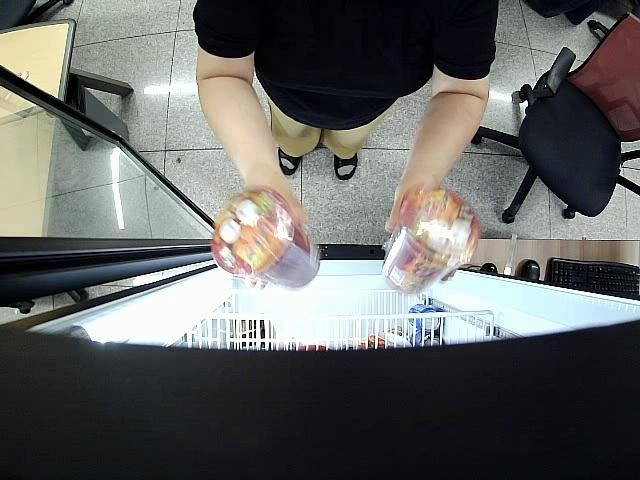06_nuguri_S: (212, 189, 326, 289), (382, 184, 481, 294)
